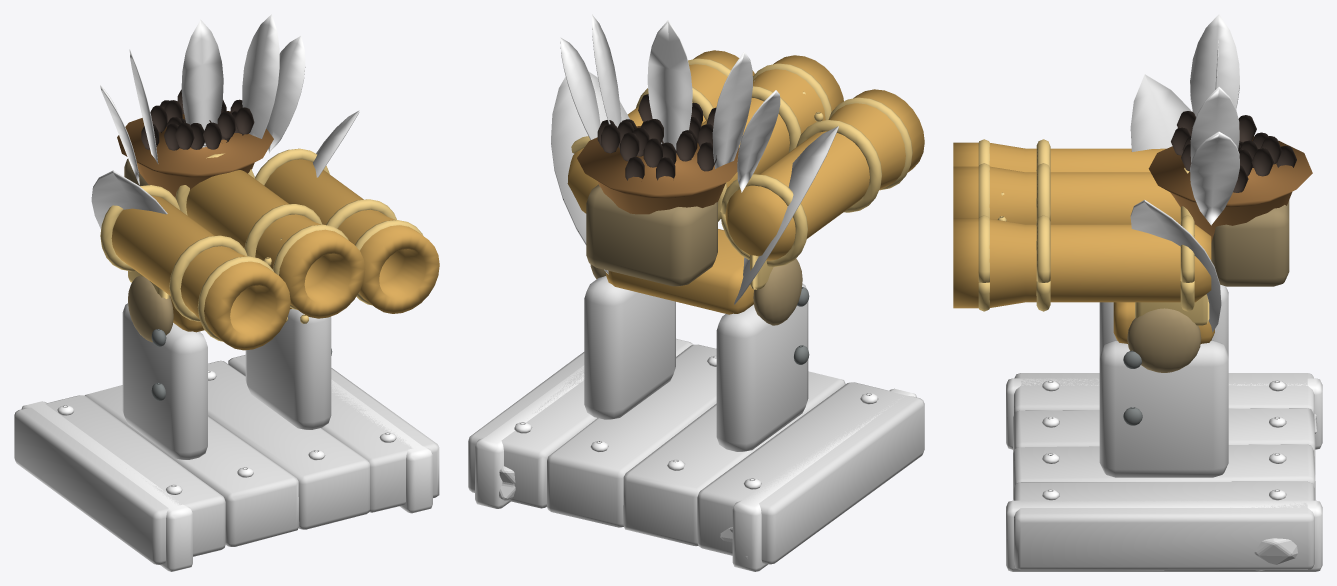
The model's file is seed-4.fbx.
3 renders of one model, left to right at view 1: azimuth 30°, elevation 25°; view 2: azimuth 150°, elevation 25°; view 3: azimuth 270°, elevation 25°, orthographic. The views are drawn at different scales.
Visible parts, largest first — view 1: Base_Bark, Barrel_Metal, Turret_Bark, Petals_Metal, Turret_Organic, Base_Metal, Turret_Metal, Petals_Leaf; view 2: Base_Bark, Barrel_Metal, Turret_Bark, Turret_Metal, Petals_Metal, Turret_Organic, Base_Metal, Petals_Leaf, Base_Stone; view 3: Base_Bark, Barrel_Metal, Turret_Bark, Turret_Metal, Petals_Metal, Turret_Organic, Base_Metal, Petals_Leaf, Base_Stone.
Part boxes in pixels (bbox=[...]): Base_Bark: bbox=[14, 355, 439, 564]; Barrel_Metal: bbox=[100, 148, 439, 350]; Turret_Bark: bbox=[122, 303, 331, 459]; Petals_Metal: bbox=[100, 14, 305, 185]; Turret_Organic: bbox=[117, 89, 273, 197]; Base_Metal: bbox=[21, 370, 432, 571]; Turret_Metal: bbox=[124, 158, 332, 400]; Petals_Leaf: bbox=[91, 110, 359, 228]; Base_Bark: bbox=[468, 338, 924, 564]; Barrel_Metal: bbox=[567, 50, 924, 266]; Turret_Bark: bbox=[584, 276, 808, 451]; Turret_Metal: bbox=[586, 80, 823, 364]; Petals_Metal: bbox=[560, 14, 780, 192]; Turret_Organic: bbox=[577, 94, 739, 214]; Base_Metal: bbox=[475, 355, 916, 571]; Petals_Leaf: bbox=[551, 71, 838, 304]; Base_Stone: bbox=[499, 466, 747, 558]; Base_Bark: bbox=[1013, 373, 1315, 570]; Barrel_Metal: bbox=[953, 139, 1211, 311]; Turret_Bark: bbox=[1099, 284, 1228, 477]; Turret_Metal: bbox=[997, 192, 1289, 425]; Petals_Metal: bbox=[1190, 14, 1239, 225]; Turret_Organic: bbox=[1148, 111, 1312, 242]; Base_Metal: bbox=[1006, 378, 1322, 571]; Petals_Leaf: bbox=[1130, 74, 1221, 332]; Base_Stone: bbox=[1254, 414, 1317, 571].
Bounding box in the file's own units: 89.81 × 133 × 94.54.
